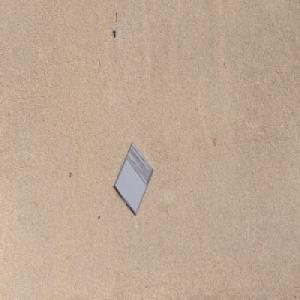PlasticPart: (113, 141, 154, 217)
